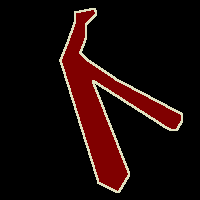tie: (60, 8, 182, 192)
